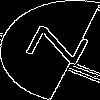Z: (24, 25, 100, 70)
